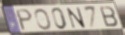0: (52, 7, 69, 31)
7: (84, 5, 97, 30)
B: (99, 5, 120, 28)
N: (66, 6, 87, 29)
O: (34, 8, 53, 31)
P: (15, 9, 34, 33)
